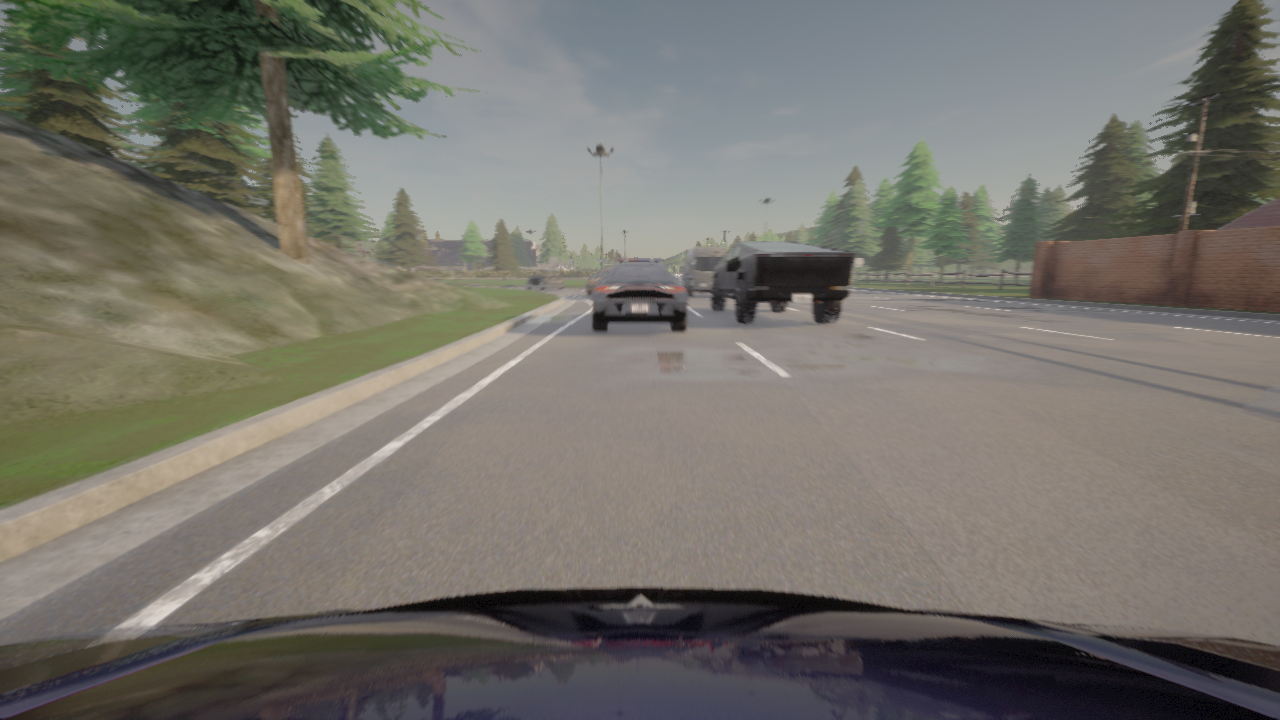cyclist: (0, 588, 1279, 719), (710, 242, 854, 324), (592, 259, 687, 331), (680, 247, 725, 296), (526, 269, 563, 290), (586, 266, 612, 295)
